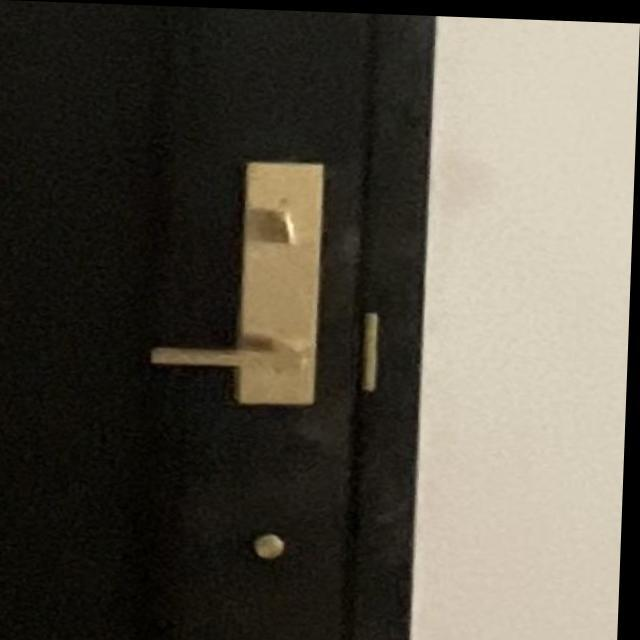door_handle: (132, 318, 335, 389)
